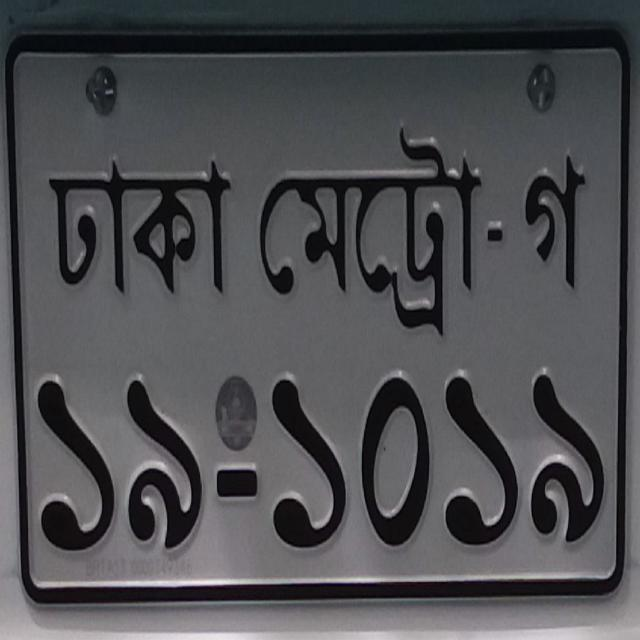numberplate: (4, 24, 630, 606)
